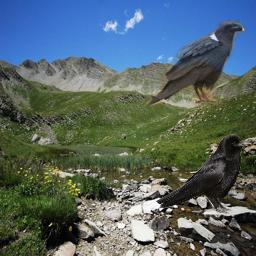Crow: (144, 20, 246, 110), (155, 134, 253, 213)
